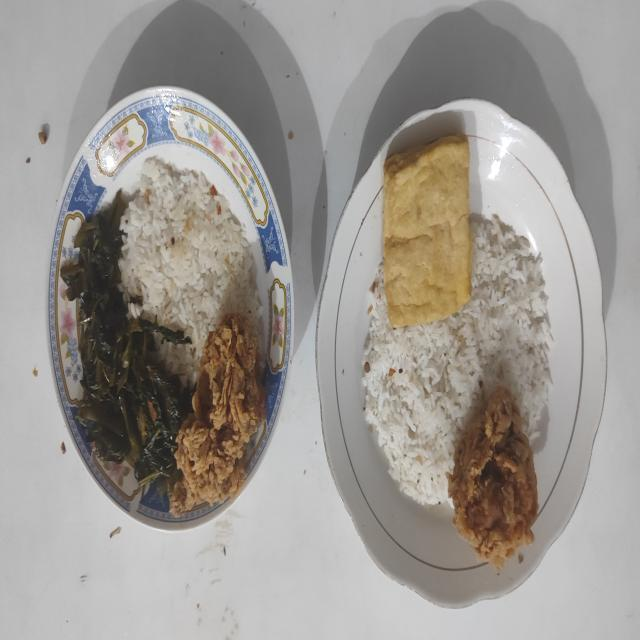nasi_putih: (364, 215, 552, 504), (119, 159, 264, 385)
tahu_goreng: (383, 136, 472, 328)
tumis_kangkung: (60, 190, 192, 492)
